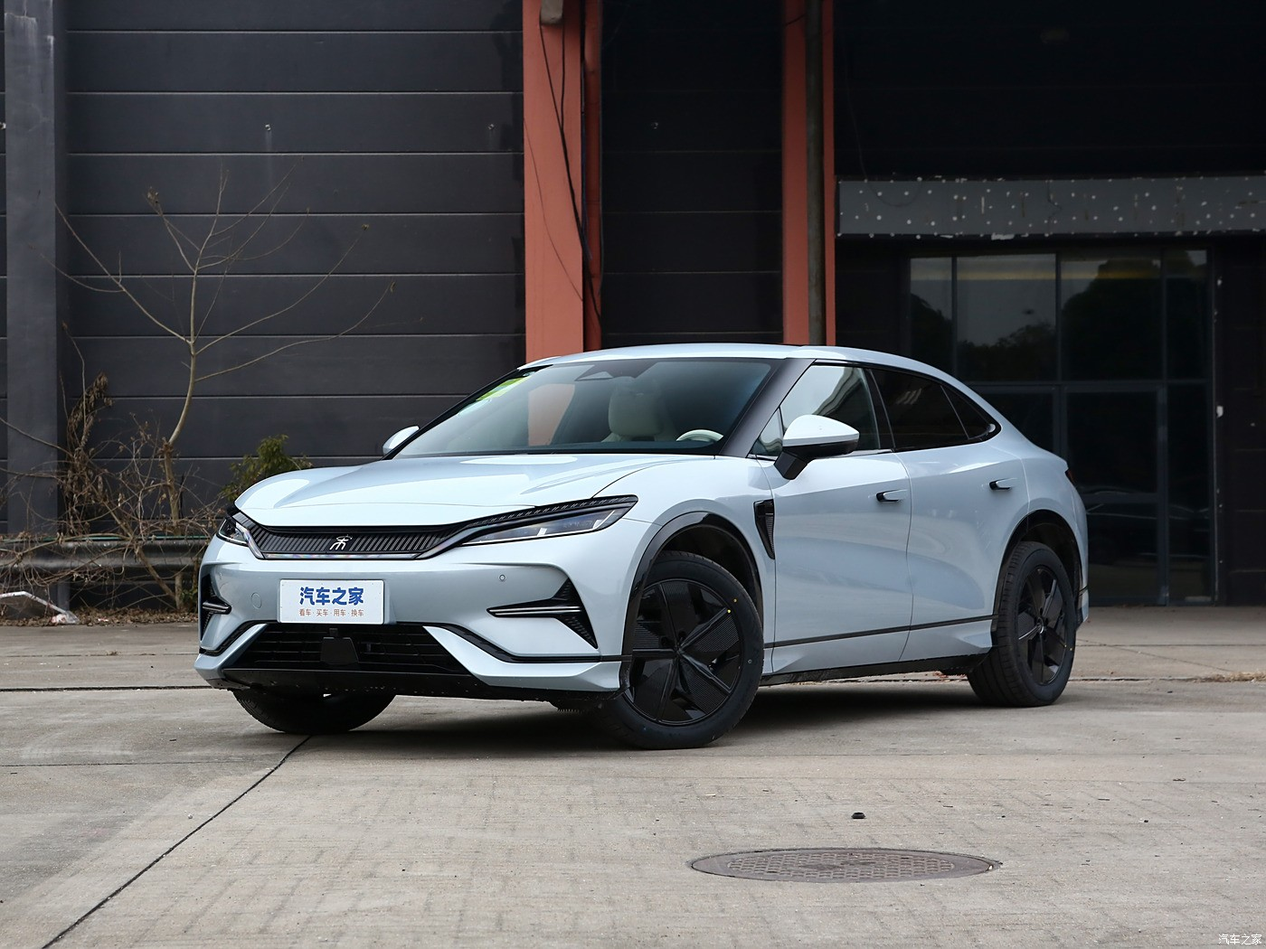BYD Song: (330, 534, 352, 550)
